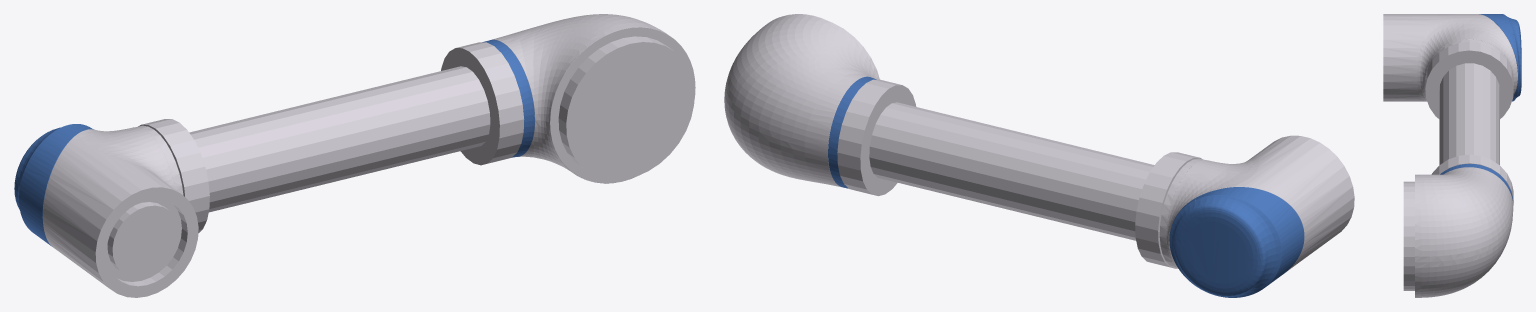
3 renders of one model, left to right at view 1: azimuth 30°, elevation 25°; view 2: azimuth 150°, elevation 25°; view 3: azimuth 270°, elevation 25°, orthographic. The views are drawn at different scales.
Visible parts, largest first — view 1: link3; view 2: link3; view 3: link3.
Part boxes in pixels (x1,y1,x2,y2): link3: [14, 14, 695, 297]; link3: [724, 14, 1354, 297]; link3: [1383, 14, 1521, 297].
Size of the model in its own units: 0.5125 by 0.1346 by 0.12.
